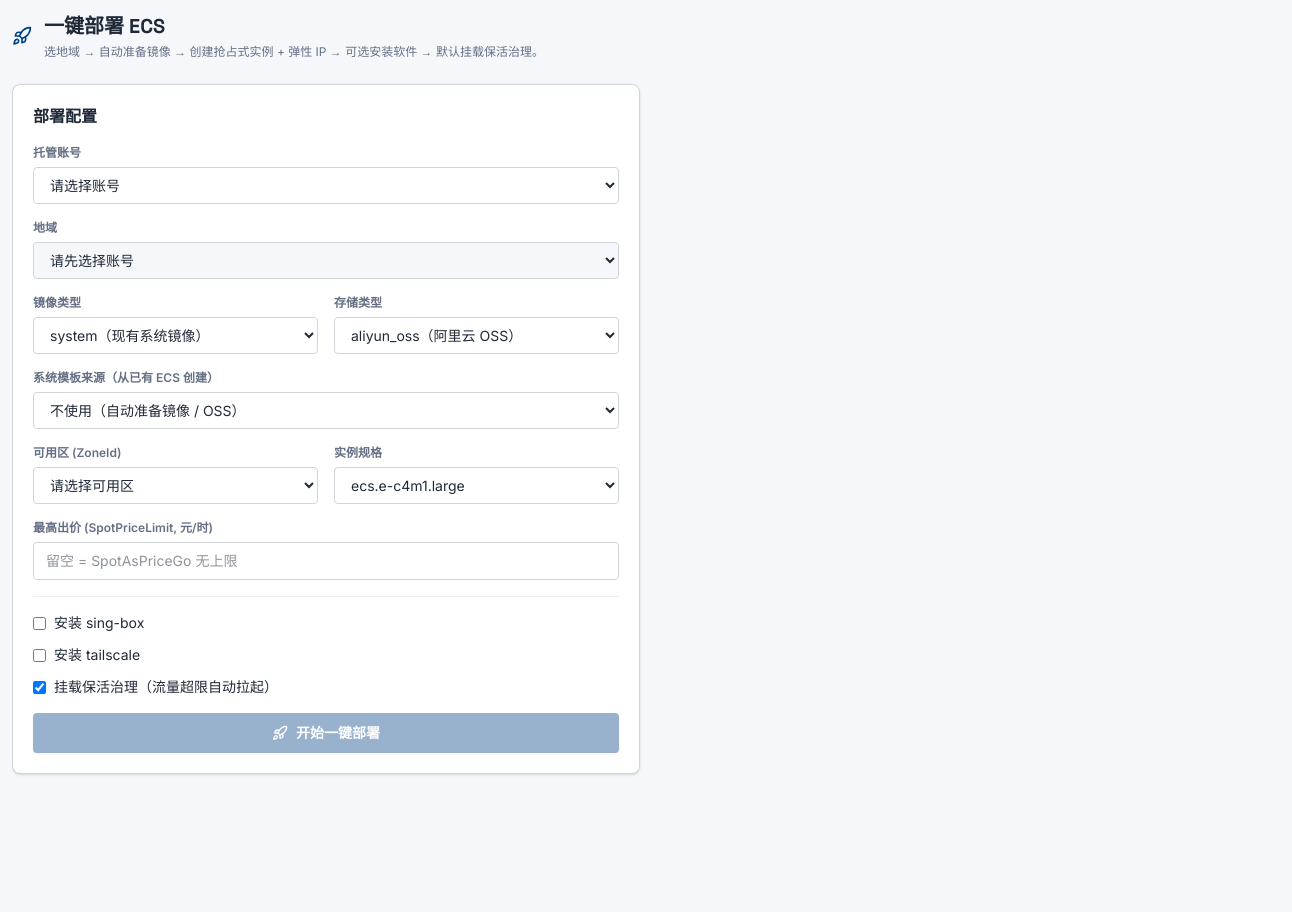
Scenario: DeploymentPage form › renders the manual-required degradation state with VNC guidance when the install step degrades
Select "Account A" in the dropdown labelled "托管账号": [326, 186] box [33,167,619,204]
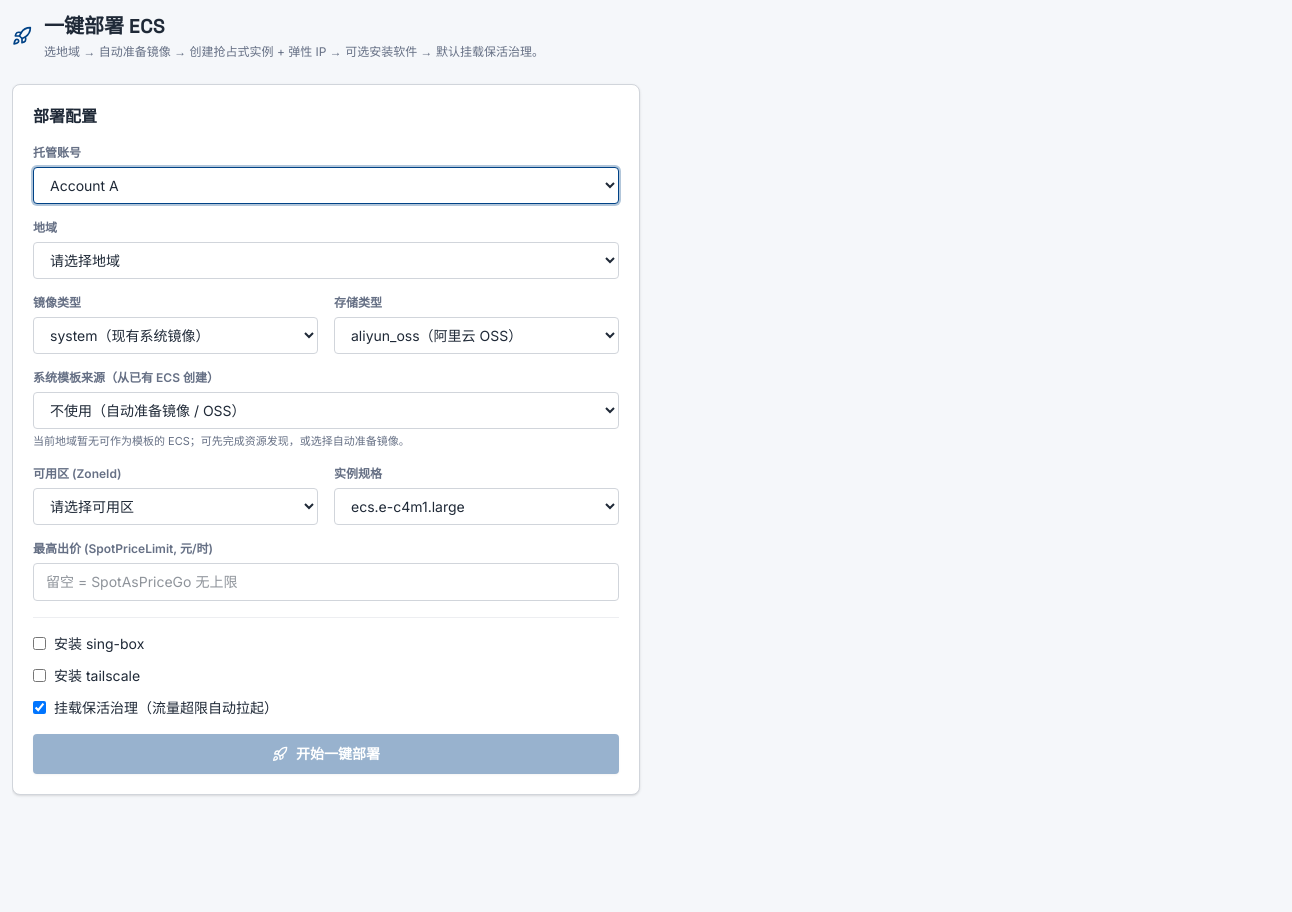
Select "美国 (硅谷) (us-west-1)" in the dropdown labelled "地域": [326, 260] box [33,242,619,279]
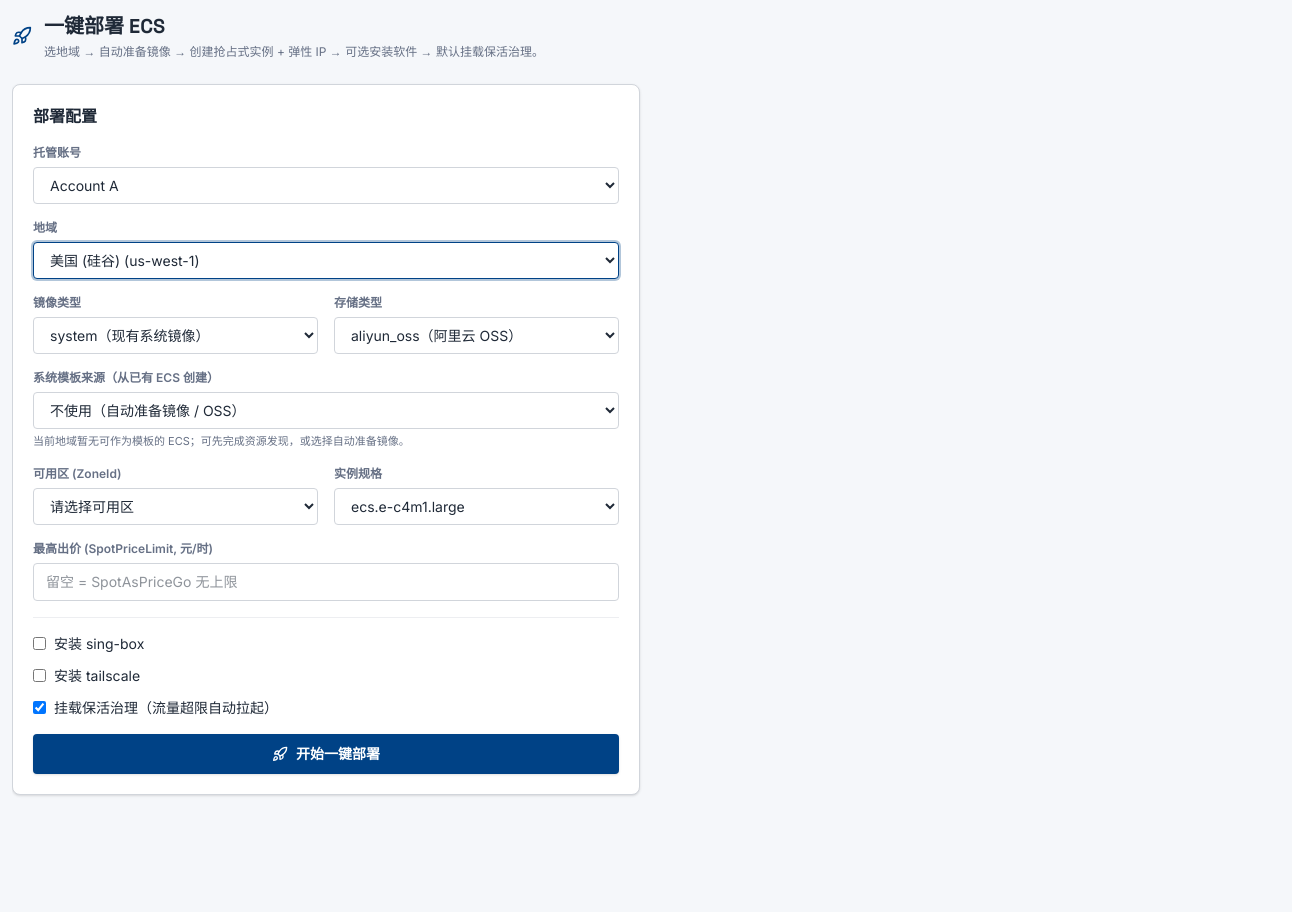
Click the button "开始一键部署": [326, 754] box [33,734,619,774]
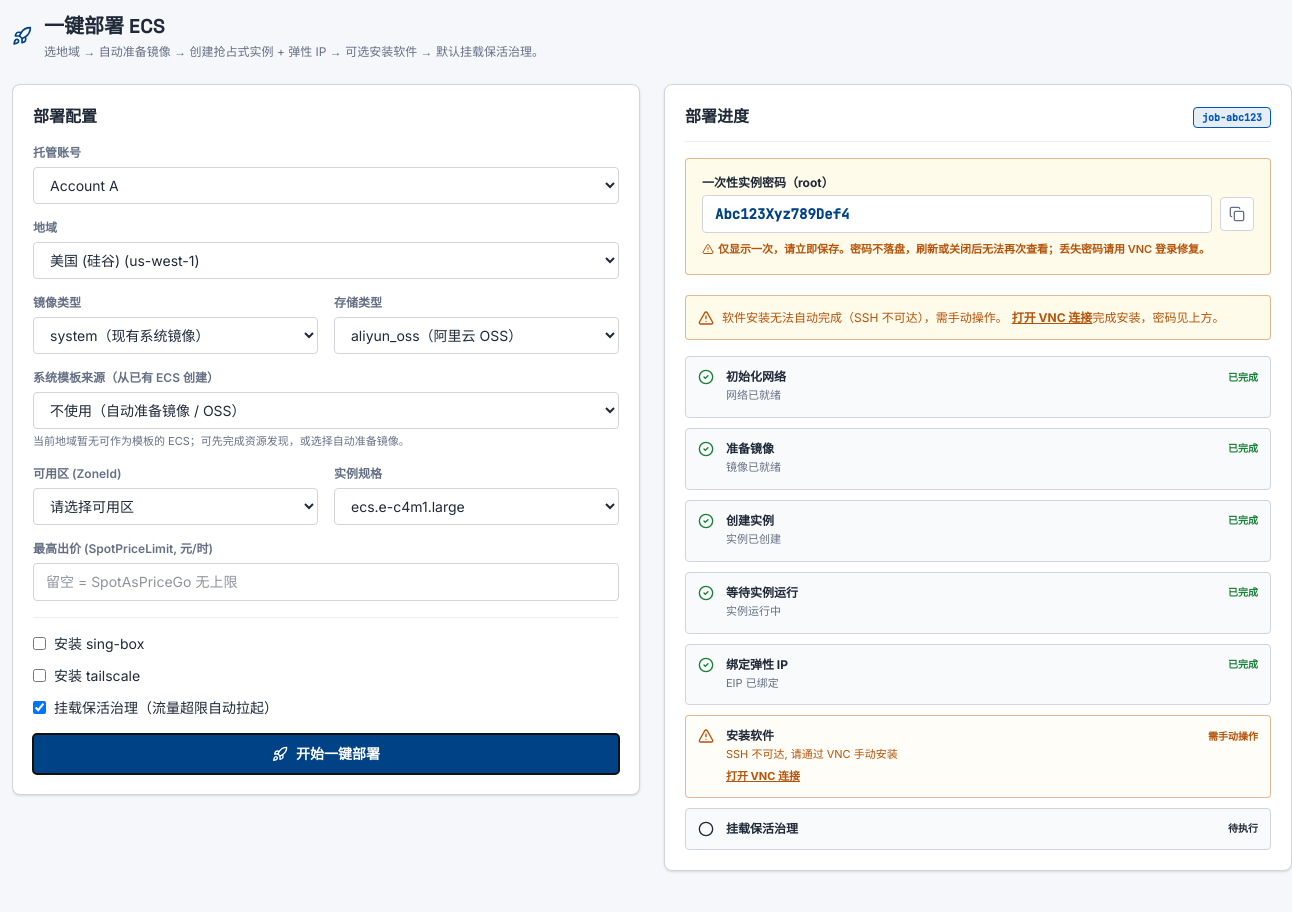
Check: the text "需手动操作" is shown, box [1208,729,1258,744]
Check: the text "SSH 不可达, 请通过 VNC 手动安装" is shown, box [726,747,898,761]
